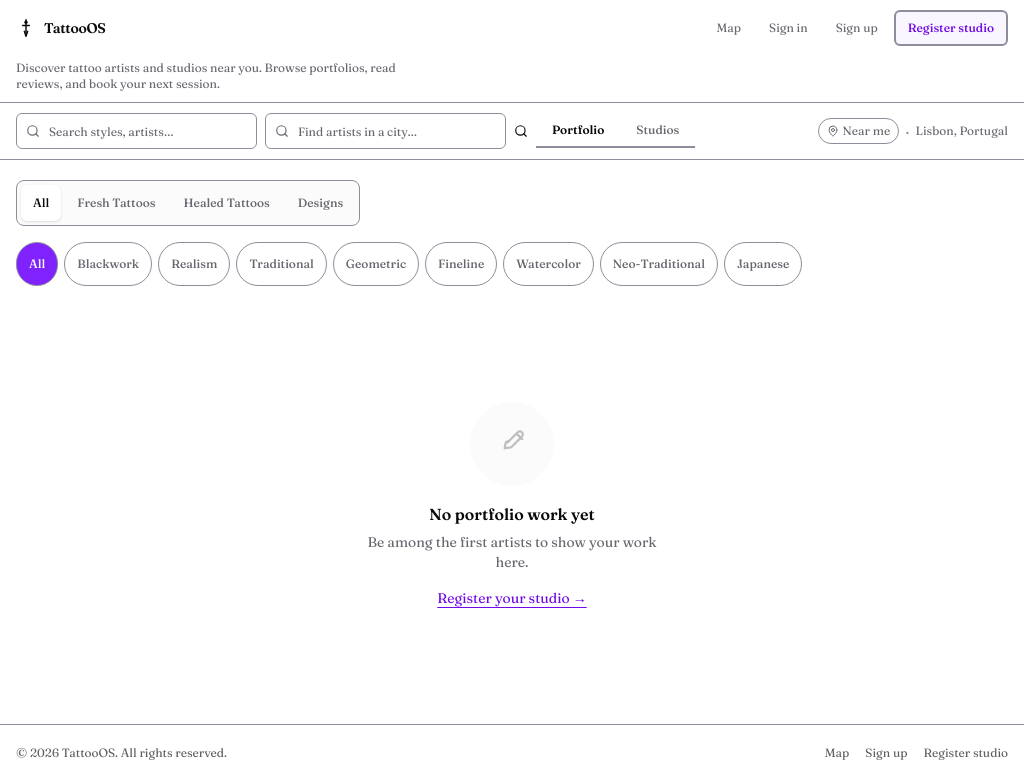
Test: DiscoverPage › renders 'No reviews yet' when reviewCount is 0 (Studios tab)
Click the tab "Studios" at (658, 131), box [620,114,695,148]
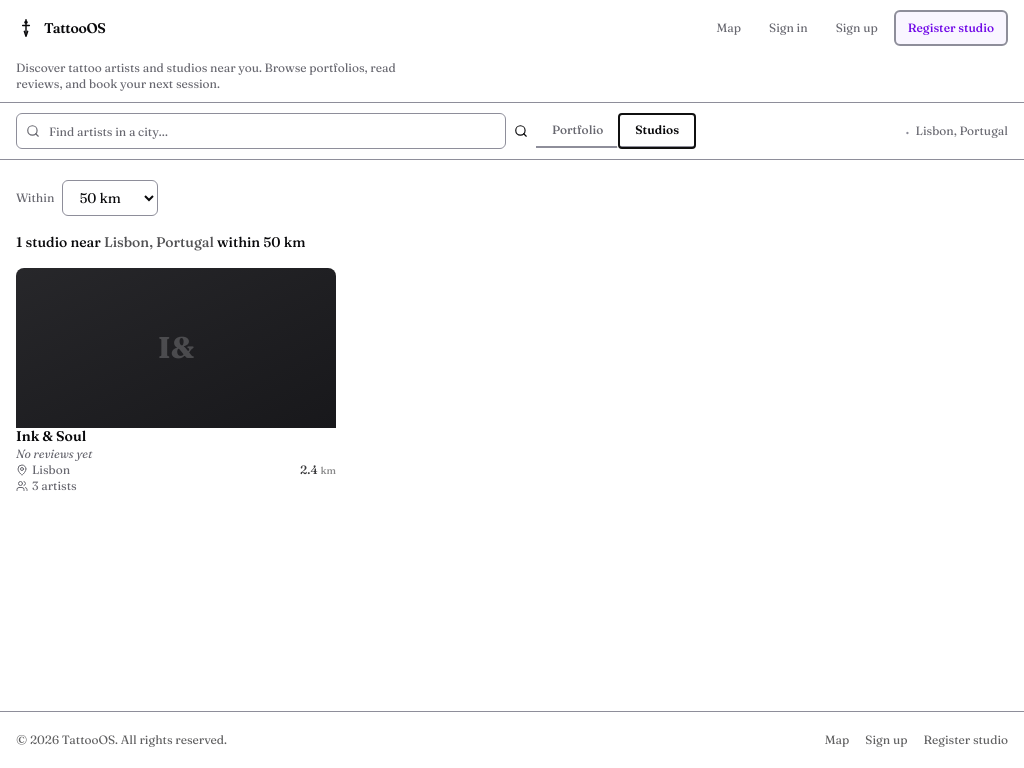
Expected: the text "Ink & Soul" is shown, [16,427,86,445]
Expected: the text "No reviews yet" is shown, [16,446,92,462]
